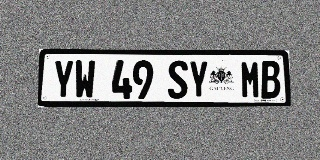4: (112, 60, 132, 99)
9: (133, 60, 153, 99)
B: (260, 61, 281, 98)
M: (240, 61, 261, 98)
S: (168, 60, 188, 99)
W: (74, 60, 95, 99)
Y: (52, 60, 74, 99), (188, 61, 209, 99)
